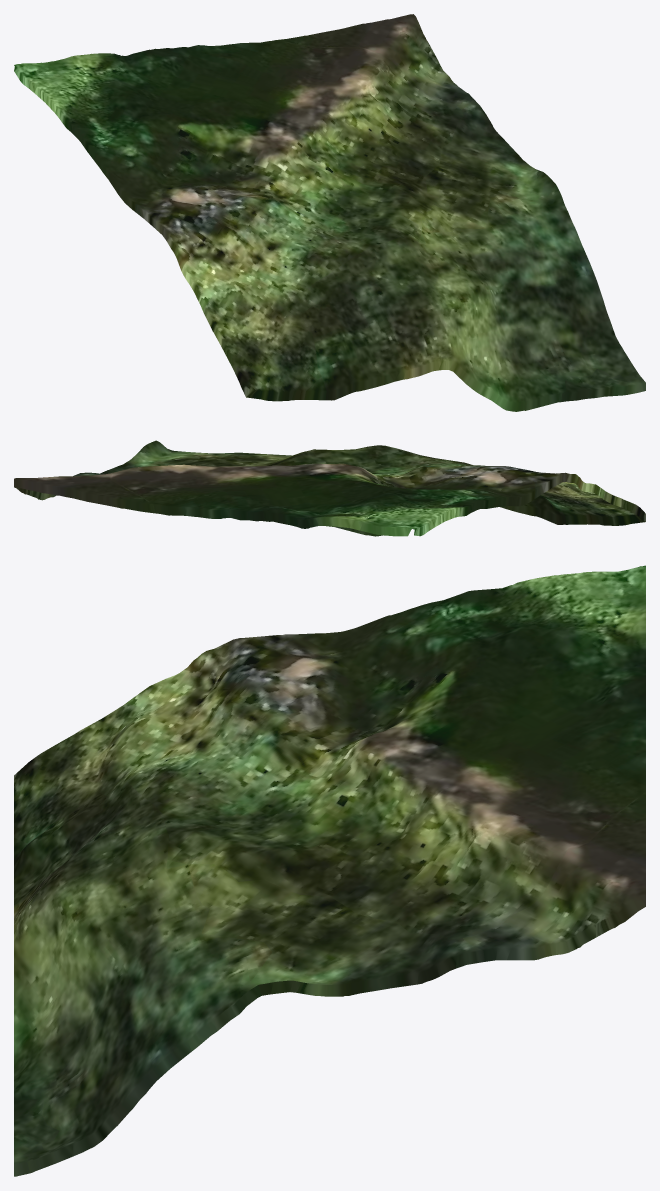
Rendered from z20-167564-405176-h0-yup-uvflip-v3-world.glb.
3 views of the same model, one above another, from view 1: azimuth 30°, elevation 25°; view 2: azimuth 150°, elevation 25°; view 3: azimuth 270°, elevation 25° (orthographic). The views are drawn at different scales.
Size of the model in its own units: 30.16 by 18.28 by 30.32.
Materials: 1 (1 with a texture image).
